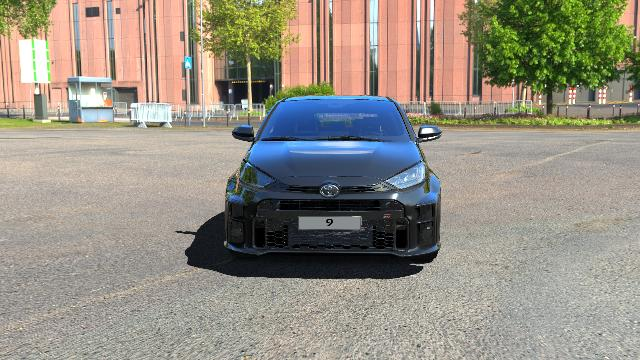License Plate: (300, 214, 362, 232)
